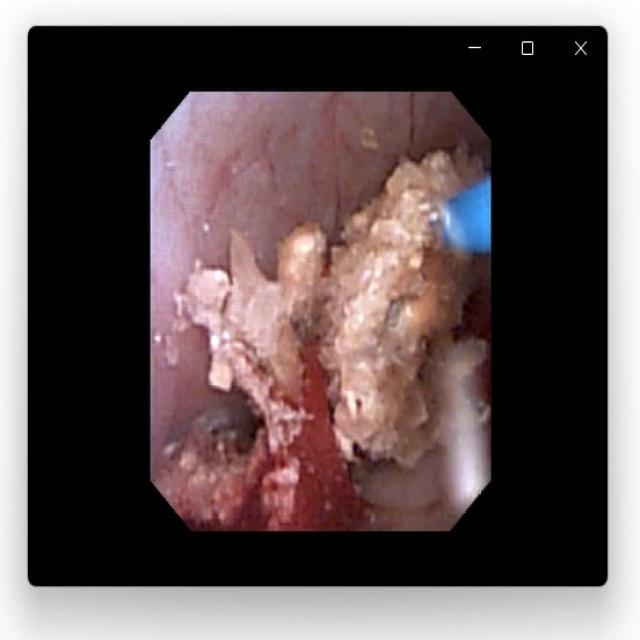stone: (175, 151, 481, 526)
